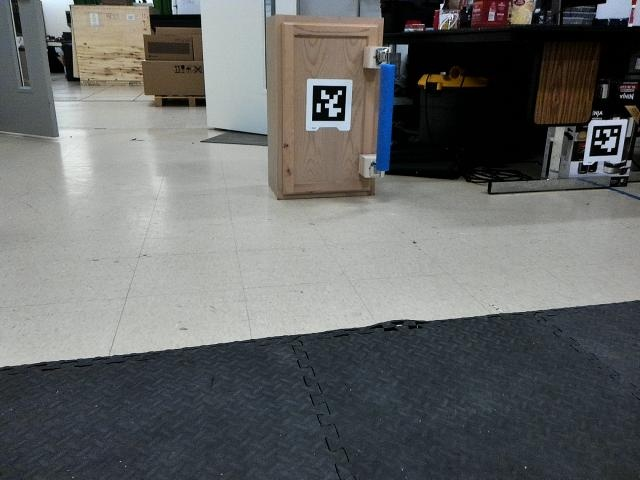noodle_handle: (366, 58, 401, 174)
